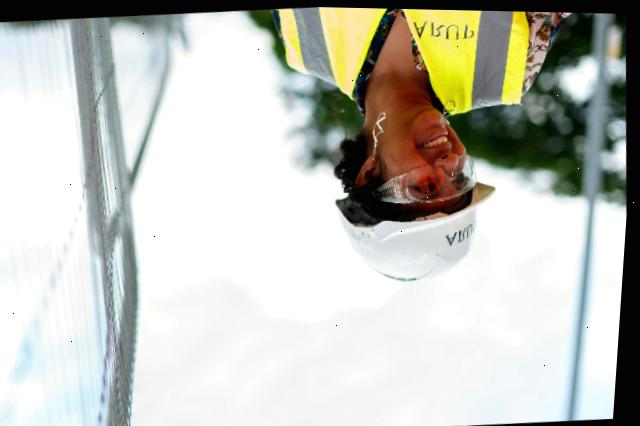helmet: (301, 178, 509, 292)
vest: (254, 5, 558, 110)
